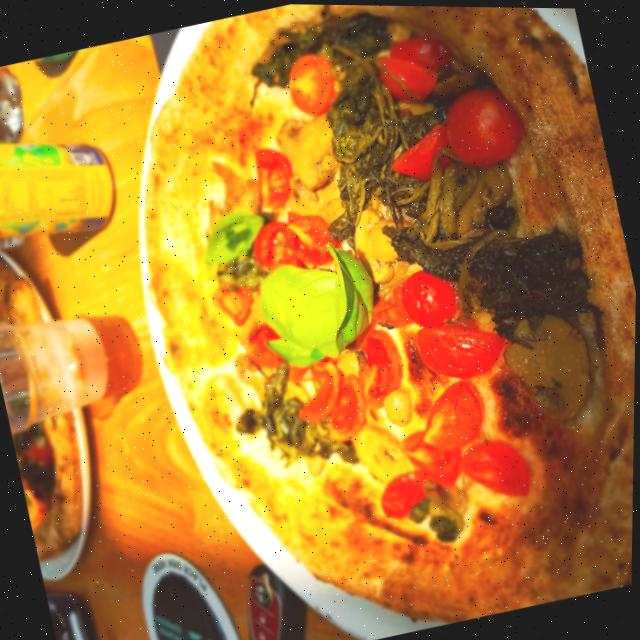basil: (253, 251, 356, 364), (311, 233, 388, 355), (192, 200, 277, 272), (268, 329, 326, 370)
mushrooms: (496, 303, 603, 428), (269, 102, 348, 193), (445, 145, 522, 235), (345, 198, 408, 285), (347, 416, 416, 488), (286, 168, 345, 216)
pizza: (86, 1, 640, 640)
tomatoes: (439, 79, 531, 171), (412, 308, 519, 387), (454, 427, 540, 508), (411, 372, 494, 449), (346, 320, 412, 413), (396, 417, 471, 497), (397, 258, 471, 331), (382, 115, 458, 186), (280, 45, 345, 122), (287, 352, 353, 424), (372, 43, 441, 108), (318, 369, 379, 442), (246, 139, 303, 214), (282, 198, 340, 270), (246, 212, 307, 280), (376, 462, 437, 520), (206, 274, 263, 332), (365, 275, 421, 334), (386, 27, 453, 76), (242, 318, 290, 372), (284, 357, 312, 383)
